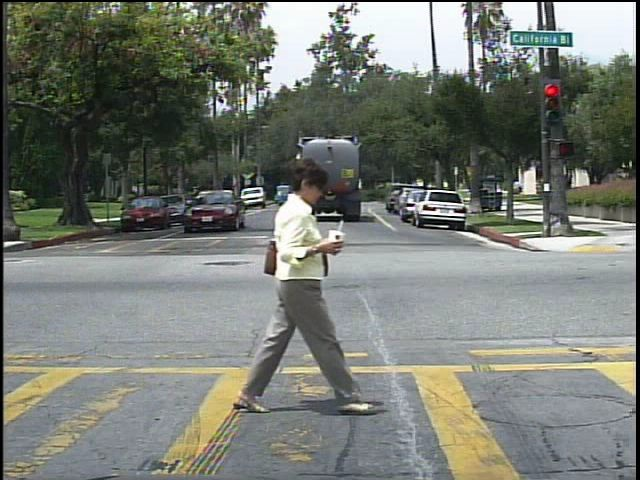person: (234, 151, 354, 423), (515, 180, 528, 199)
